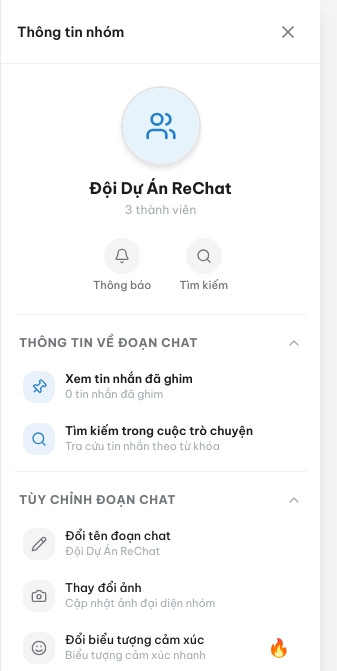
Scenario: ChatDetailDrawer Component Tests › toggles accordion sections open and closed
Expected: the button with test id "view-pinned-messages-button" is shown, x1=15 y1=363 x2=306 y2=411
Click accordion header to toggle closed
Click the button with test id "accordion-chat-info" at coordinates (160, 343), box x1=15 y1=327 x2=306 y2=359
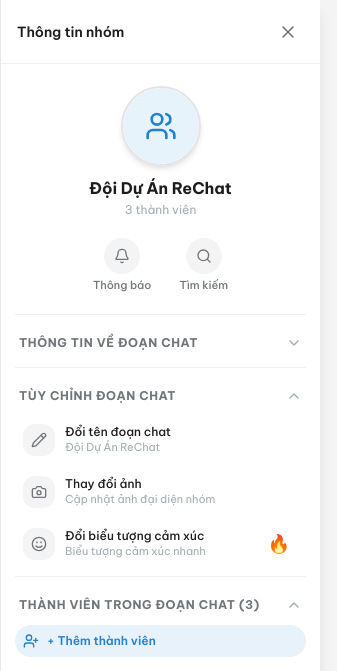
Now the button with test id "view-pinned-messages-button" is gone
Click again to reopen
Click the button with test id "accordion-chat-info" at coordinates (160, 343), box x1=15 y1=327 x2=306 y2=359
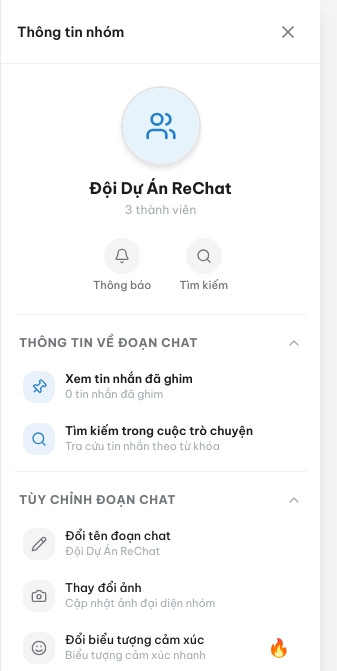
Now the button with test id "view-pinned-messages-button" is shown, box x1=15 y1=363 x2=306 y2=411
